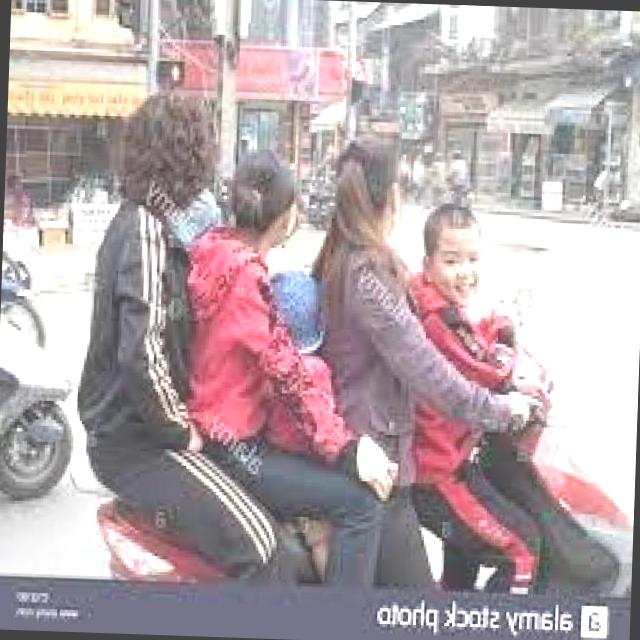motorcycle: (81, 278, 640, 600)
person: (68, 79, 283, 580), (182, 138, 345, 540), (302, 130, 434, 536), (410, 191, 524, 486), (252, 262, 358, 568)
rider_region: (80, 95, 640, 608)
